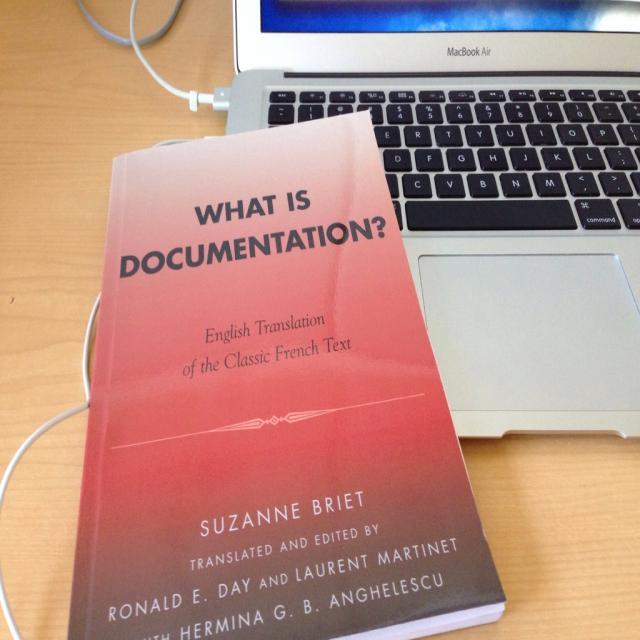book: (63, 108, 509, 640)
